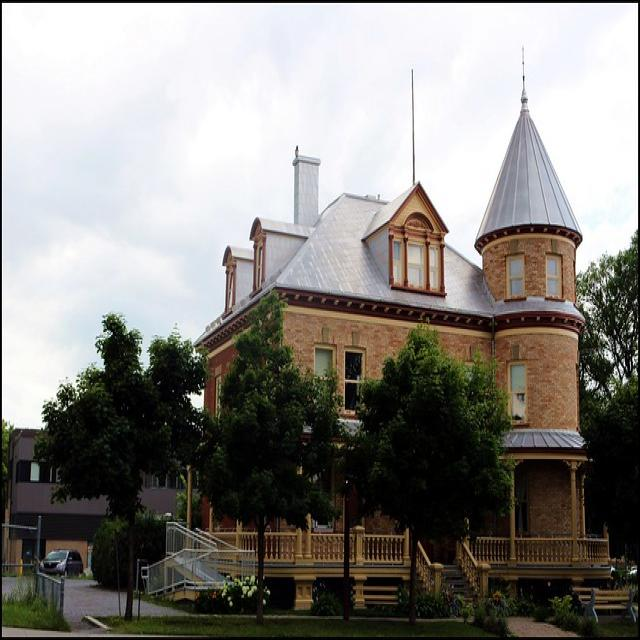Normal_building: (188, 96, 620, 608)
